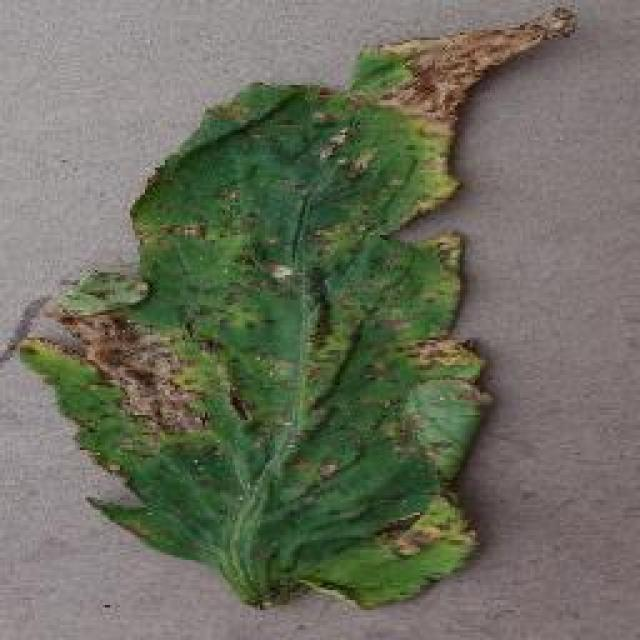Tomato bacterial spot leaf: (31, 13, 571, 605)
